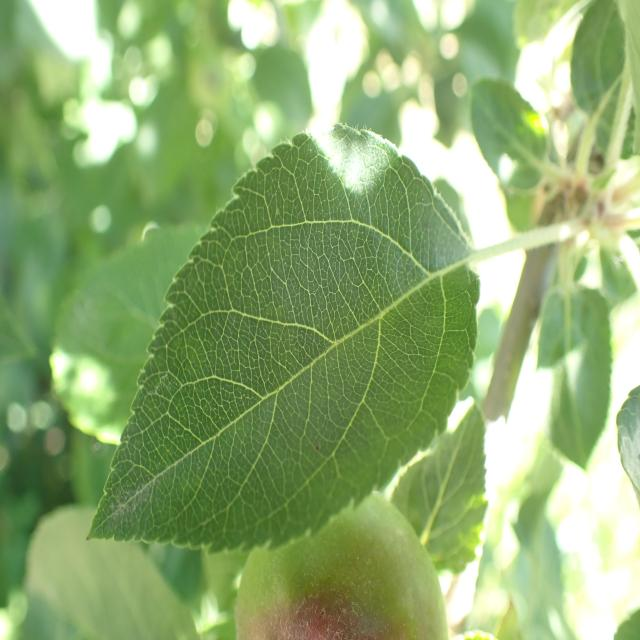healthy: (86, 121, 482, 553), (234, 490, 450, 640)
